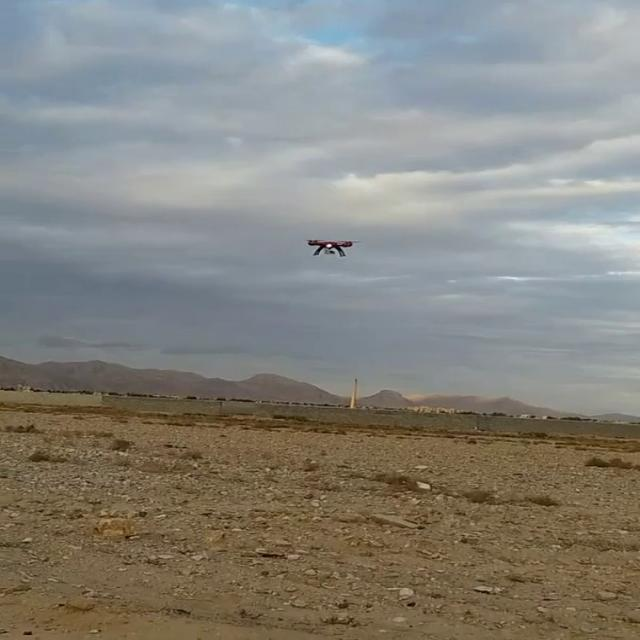drone: (297, 233, 363, 261)
